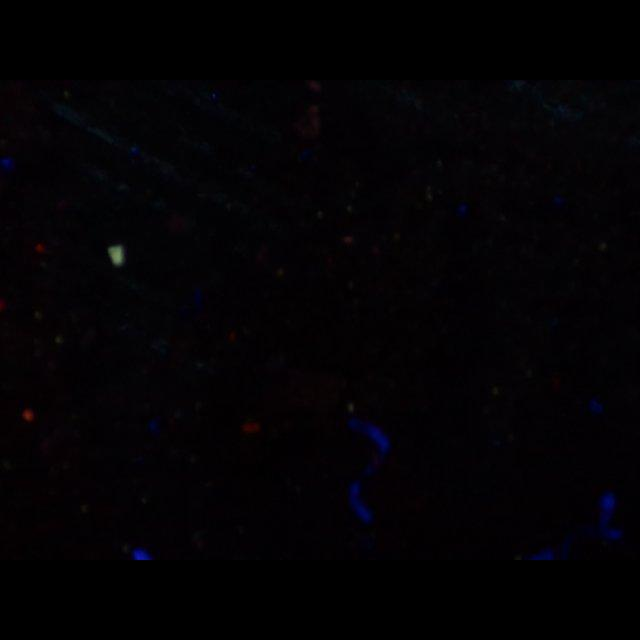microbeads: (108, 244, 126, 266)
